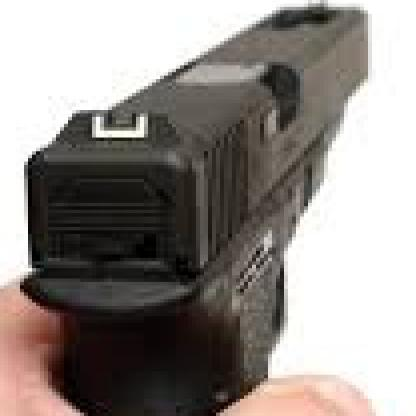gun: (8, 0, 376, 413)
